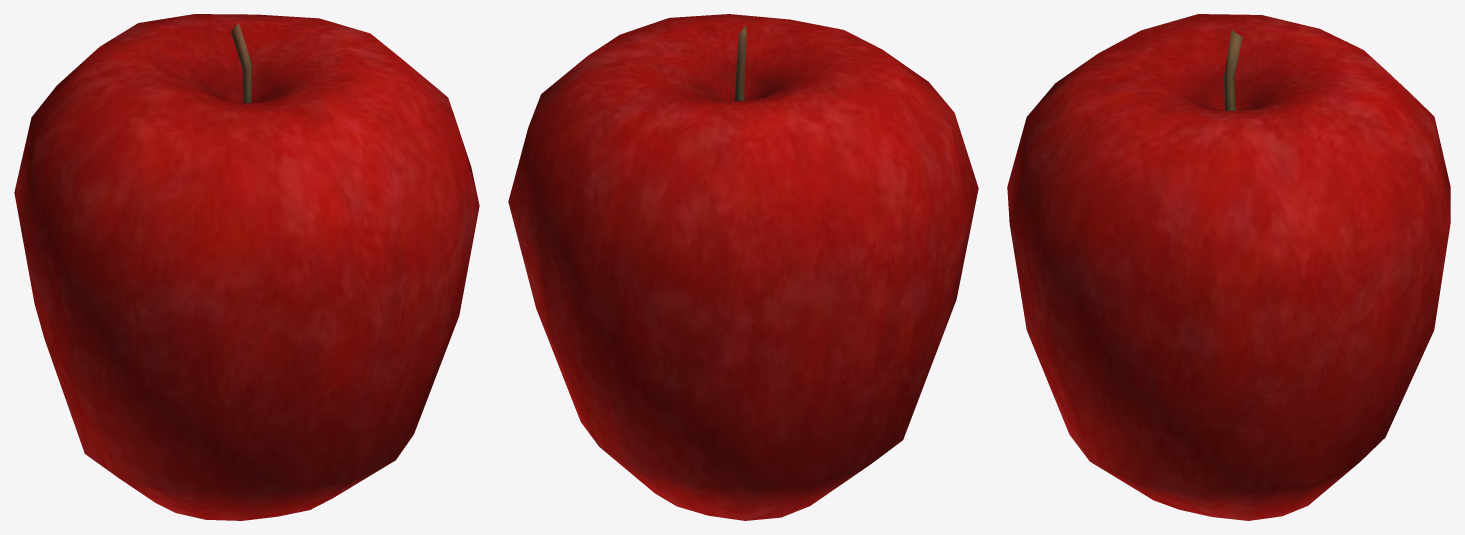
File: apple_1.glb
3 renders of one model, left to right at view 1: azimuth 30°, elevation 25°; view 2: azimuth 150°, elevation 25°; view 3: azimuth 270°, elevation 25°, orthographic. The views are drawn at different scales.
Visible parts, largest first — view 1: Apple_1; view 2: Apple_1; view 3: Apple_1.
Boxes of the visible parts, x1,y1,x2,y2 form: Apple_1: (14,14,479,520); Apple_1: (508,14,978,520); Apple_1: (1007,14,1450,520).
Size of the model in its own units: 0.0988 by 0.1088 by 0.0959.
1 material, 1 textured.
